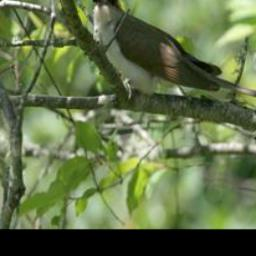Cuckoo: (93, 0, 256, 110)
